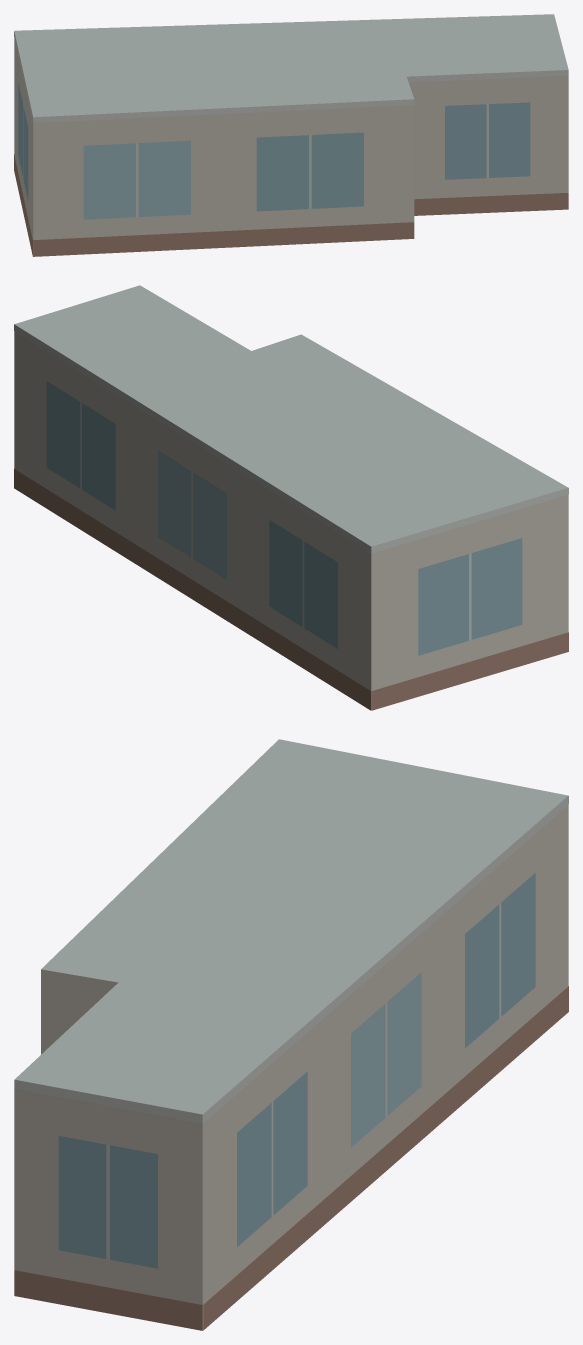
Rendered from survey-upis-32812372.glb.
The picture shows the model from 3 angles, top to bottom: view 1: azimuth 30°, elevation 25°; view 2: azimuth 150°, elevation 25°; view 3: azimuth 270°, elevation 25°; orthographic projection. The views are drawn at different scales.
Visible parts, largest first — view 1: survey-upis-32812372.tmp; view 2: survey-upis-32812372.tmp; view 3: survey-upis-32812372.tmp.
Boxes of the visible parts, bbox=[...] form: survey-upis-32812372.tmp: bbox=[14, 14, 568, 256]; survey-upis-32812372.tmp: bbox=[14, 285, 568, 710]; survey-upis-32812372.tmp: bbox=[14, 739, 568, 1330].
Bounding box in the file's own units: 11.37 × 3.05 × 7.1.
